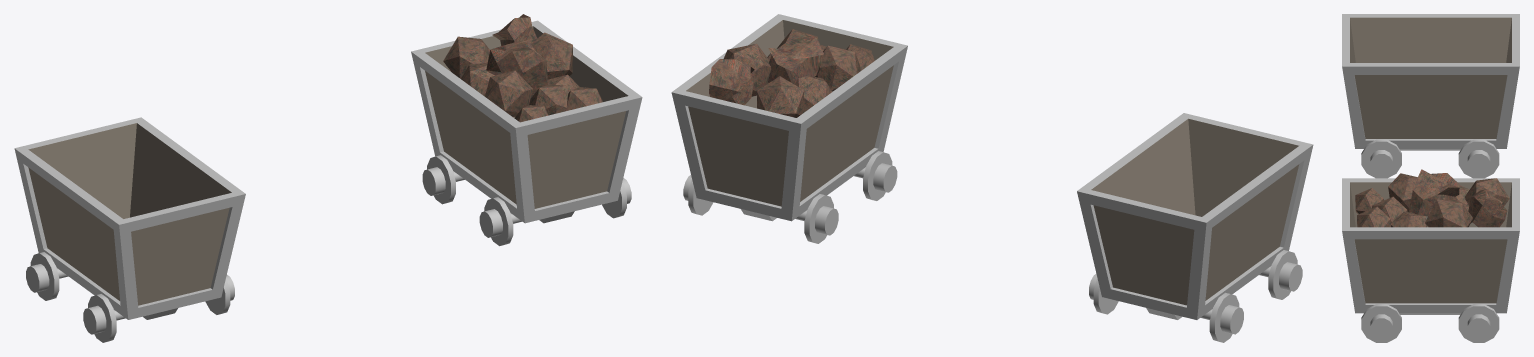
File: cave_minecart.glb
3 renders of one model, left to right at view 1: azimuth 30°, elevation 25°; view 2: azimuth 150°, elevation 25°; view 3: azimuth 270°, elevation 25°, orthographic. The views are drawn at different scales.
Parts seen in each view (by area): view 1: MineCartFull, MineCart; view 2: MineCartFull, MineCart; view 3: MineCartFull, MineCart.
Part boxes in pixels (bbox=[...]): MineCartFull: bbox=[411, 14, 642, 246]; MineCart: bbox=[14, 117, 245, 342]; MineCartFull: bbox=[671, 14, 907, 243]; MineCart: bbox=[1077, 113, 1313, 342]; MineCartFull: bbox=[1342, 169, 1519, 342]; MineCart: bbox=[1342, 14, 1519, 178].
Size of the model in its own units: 2.7 by 0.7992 by 0.9143.
3 materials, 1 textured.
